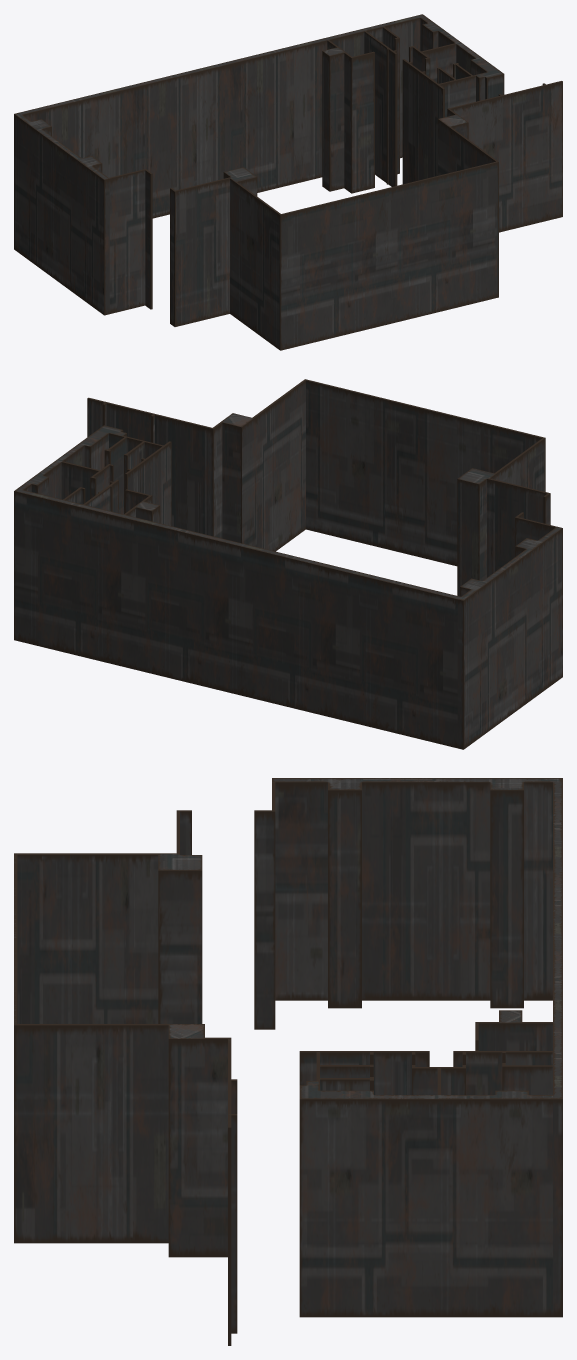
File: Main_Wall.fbx
3 renders of one model, top to bottom at view 1: azimuth 30°, elevation 25°; view 2: azimuth 150°, elevation 25°; view 3: azimuth 270°, elevation 25°, orthographic. The views are drawn at different scales.
Parts seen in each view (by area): view 1: Main_Wall; view 2: Main_Wall; view 3: Main_Wall.
Boxes of the visible parts, x1,y1,x2,y2 form: Main_Wall: (14,14,562,350); Main_Wall: (14,379,562,749); Main_Wall: (14,778,562,1345).
Size of the model in its own units: 2631 by 766 by 1746.
1 material, 1 textured.
